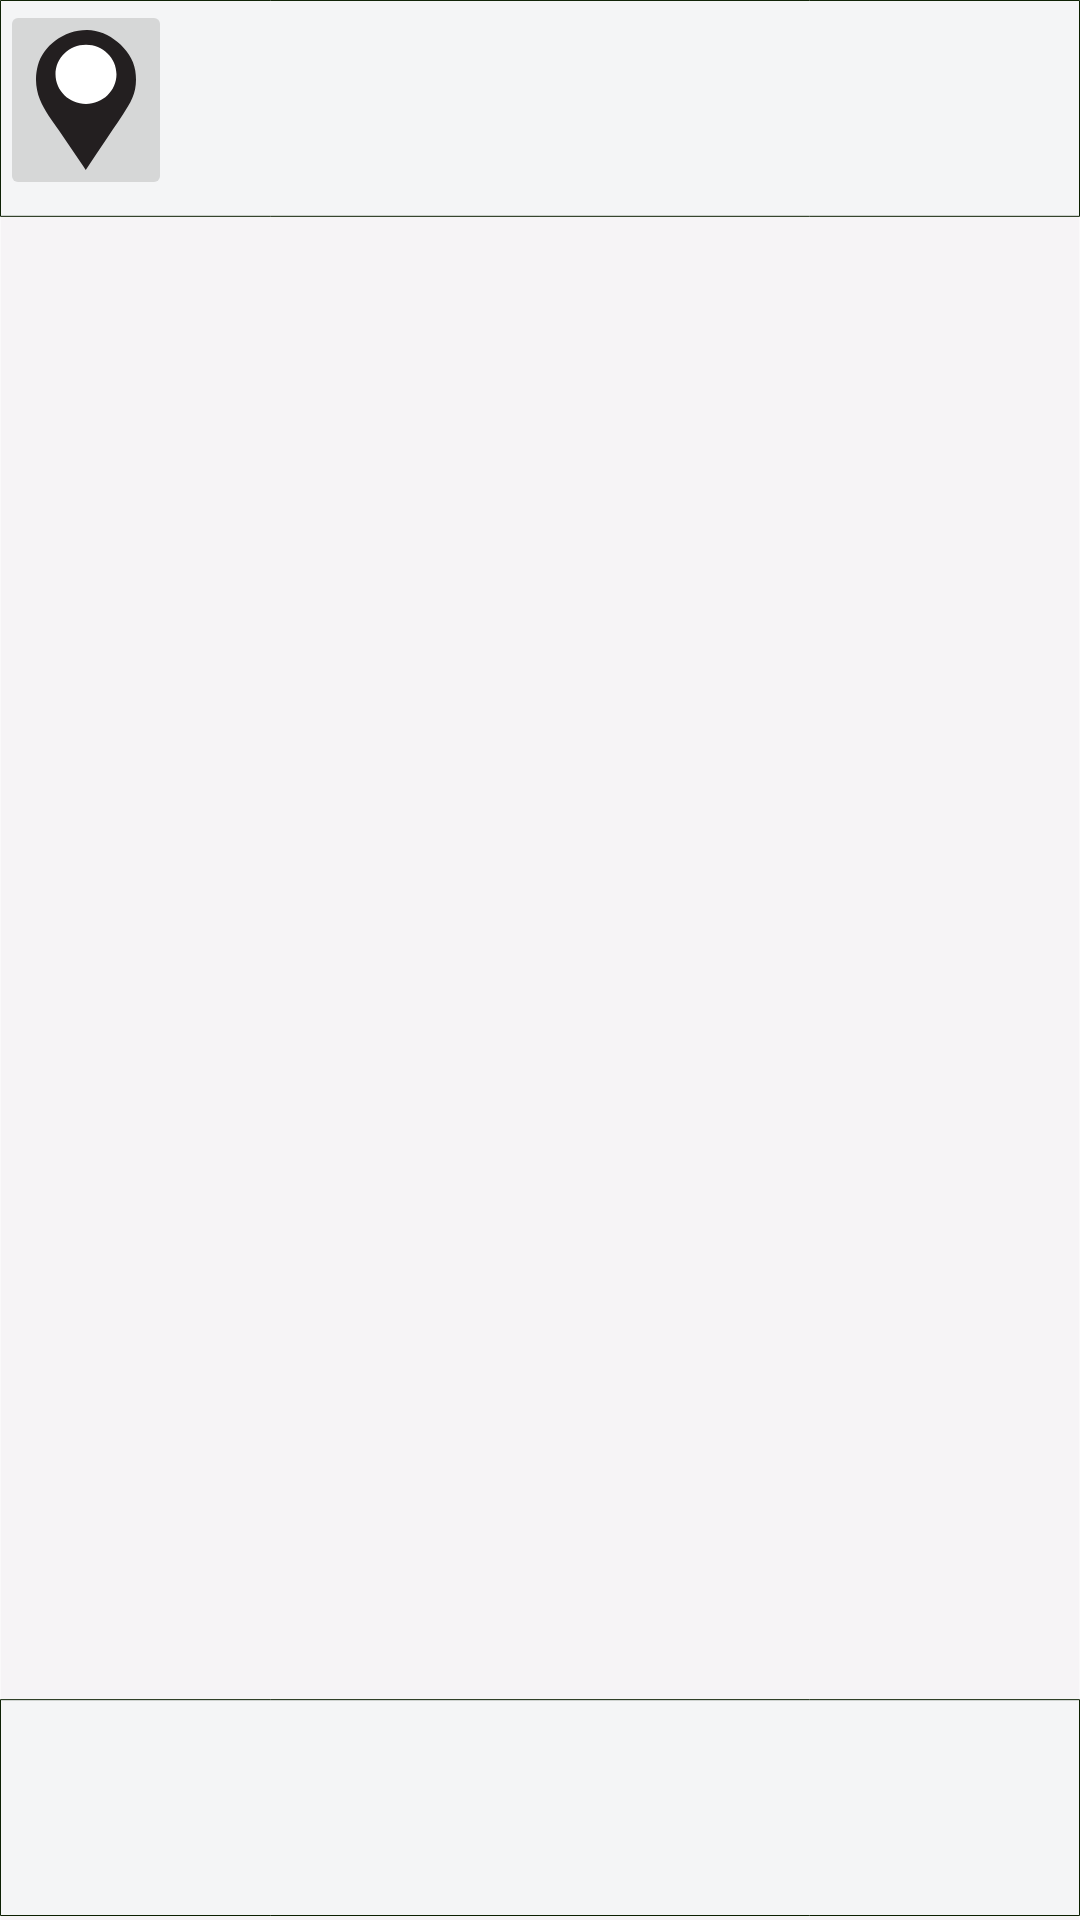

Named icons in this screenshot (1080×1920) and their centers, (x=x, y=y):
map: (x=86, y=100)
